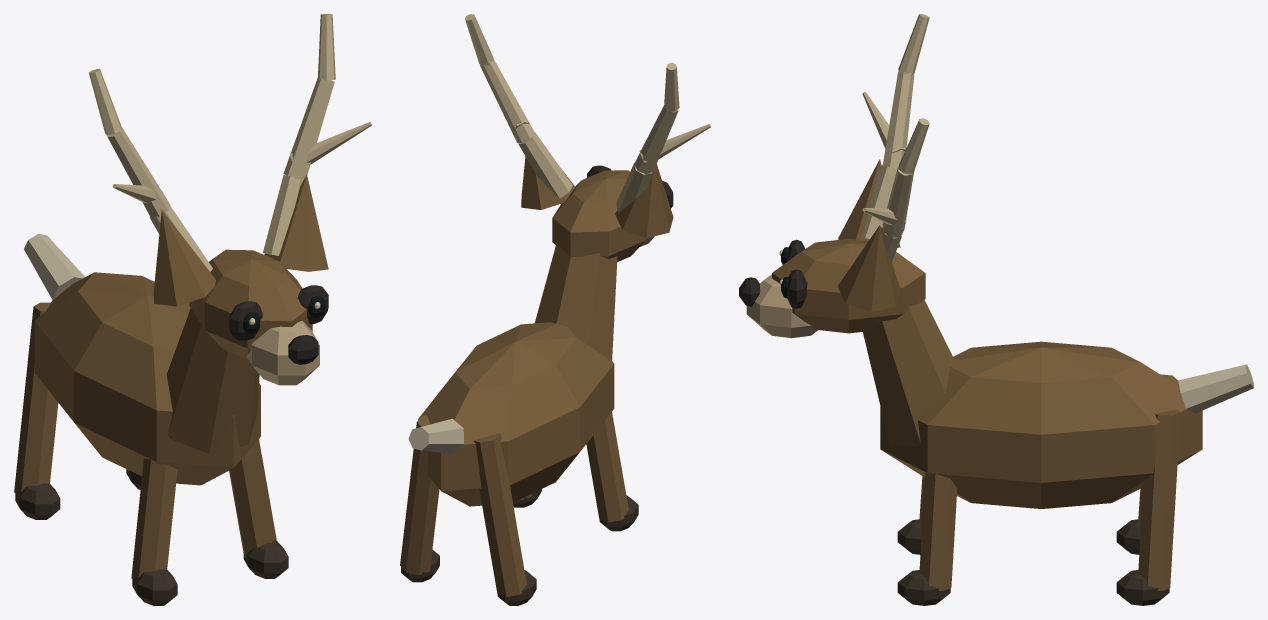
File: fauna-hart.glb
The picture shows the model from 3 angles, left to right: view 1: azimuth 30°, elevation 25°; view 2: azimuth 150°, elevation 25°; view 3: azimuth 270°, elevation 25°; orthographic projection. The views are drawn at different scales.
Parts seen in each view (by area): view 1: Fauna_hart; view 2: Fauna_hart; view 3: Fauna_hart.
Boxes of the visible parts, box(x1,y1,x2,y2) form: Fauna_hart: box(14, 14, 371, 605); Fauna_hart: box(400, 14, 710, 605); Fauna_hart: box(739, 14, 1253, 605).
Size of the model in its own units: 1.07 by 2.17 by 1.98.
